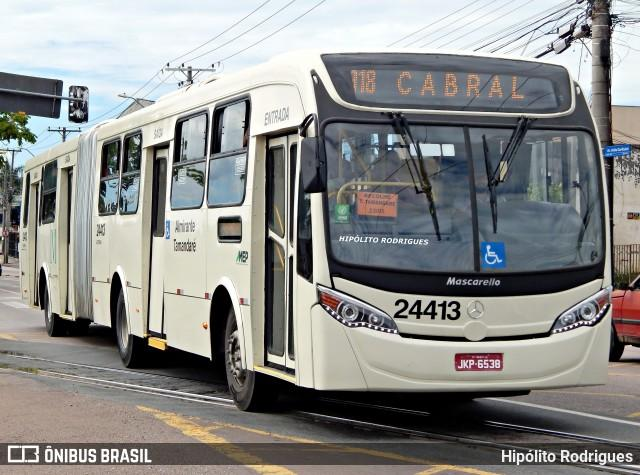CABRAL: (391, 67, 528, 101)
